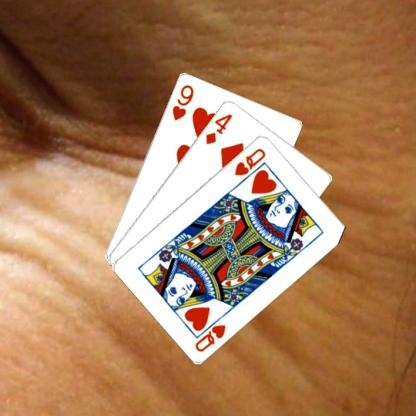4D: (203, 111, 233, 145)
9H: (169, 82, 195, 122)
QH: (192, 312, 228, 353), (231, 145, 267, 177)
